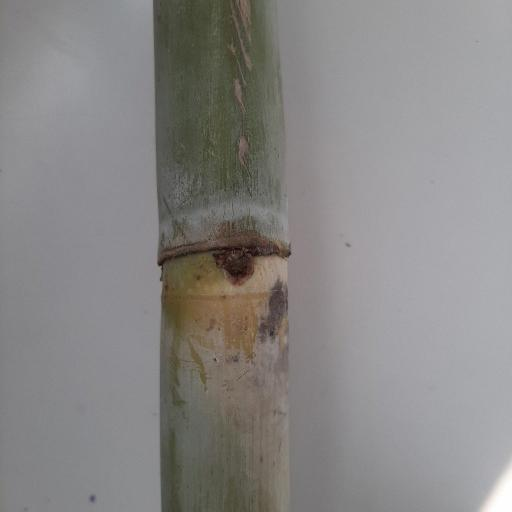Bud: (222, 249, 251, 278)
